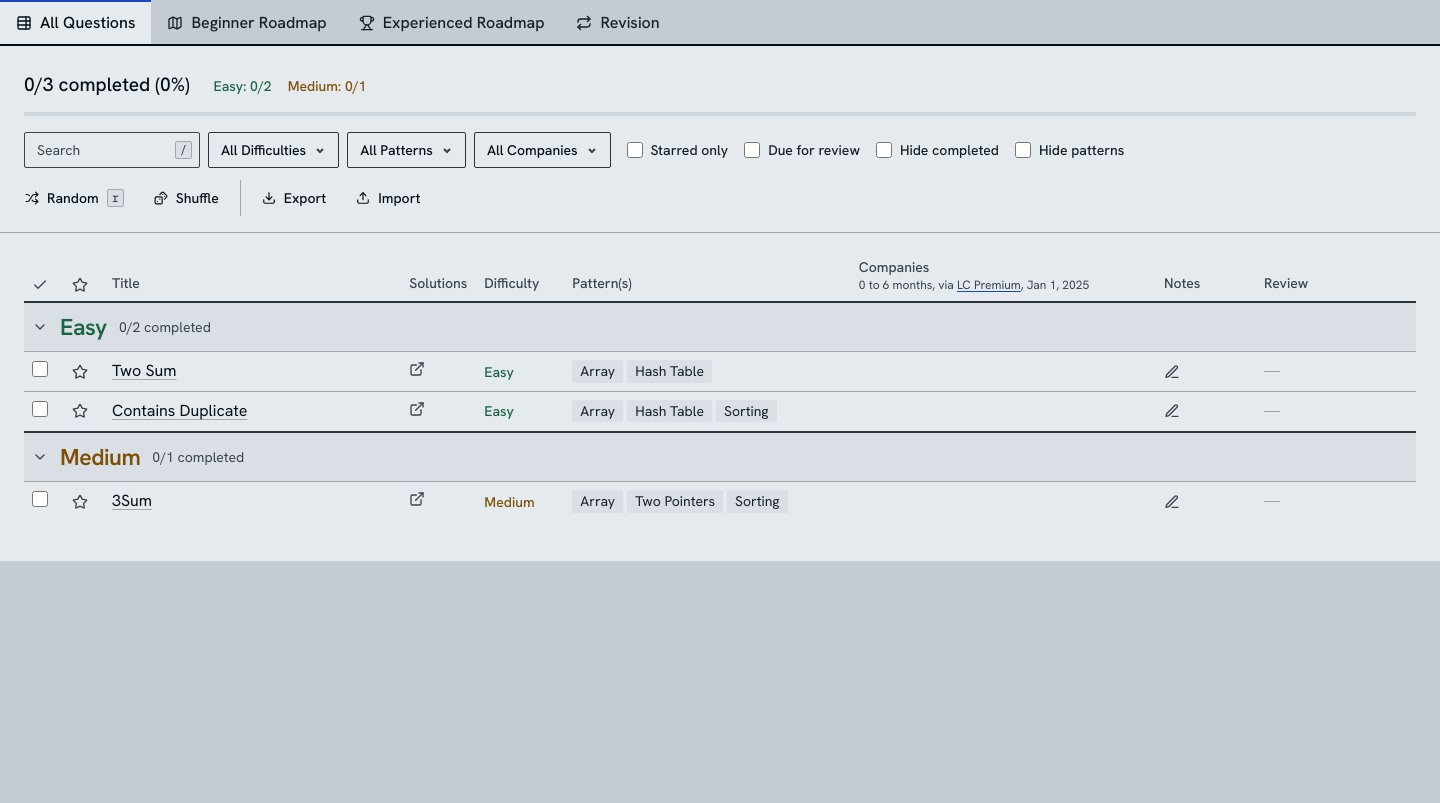
ViewSwitcher › switches to beginner roadmap view
Click the button "Beginner Roadmap": [247, 22] box left=151, top=0, right=343, bottom=44
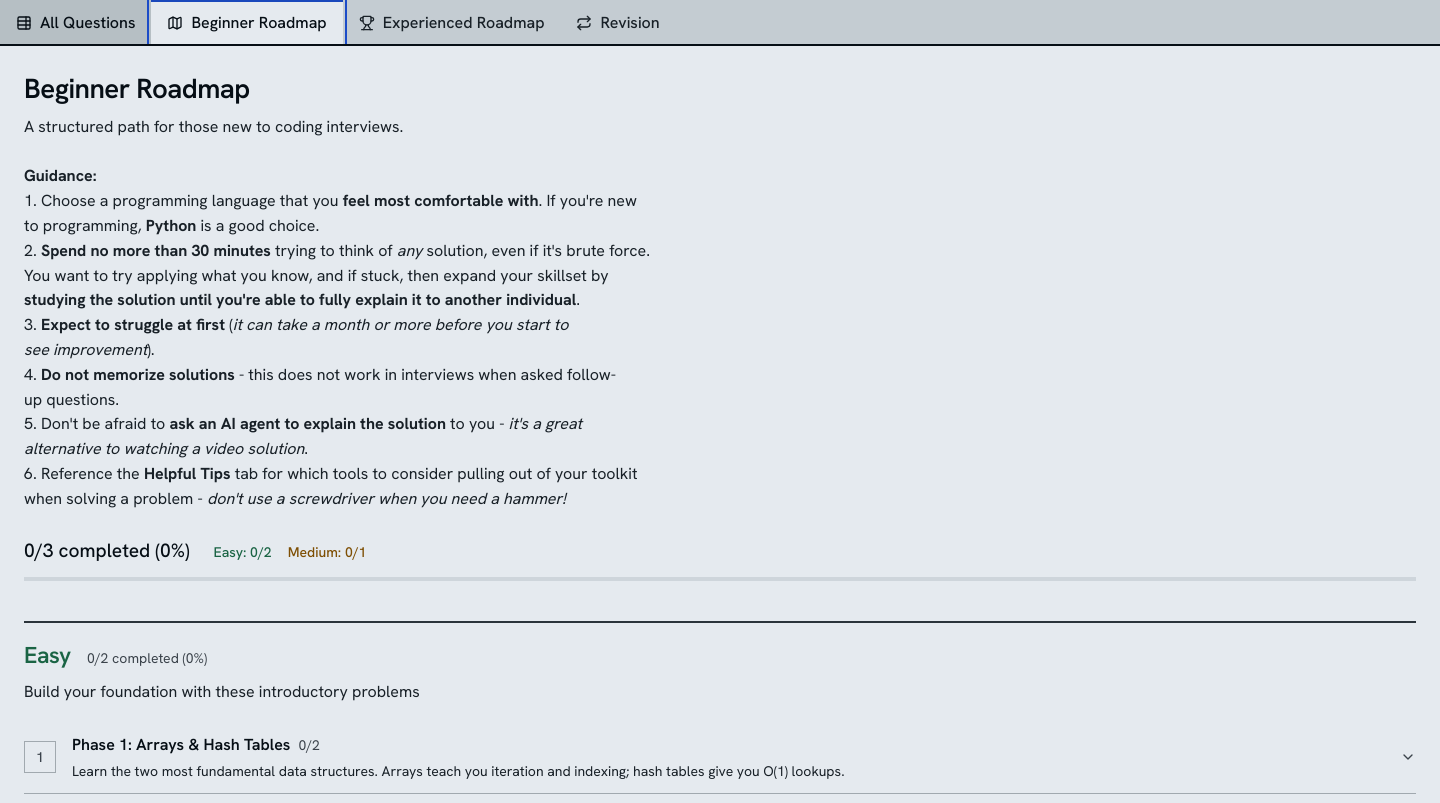
Now the text "structured path for those new" is shown, box left=24, top=116, right=403, bottom=137
